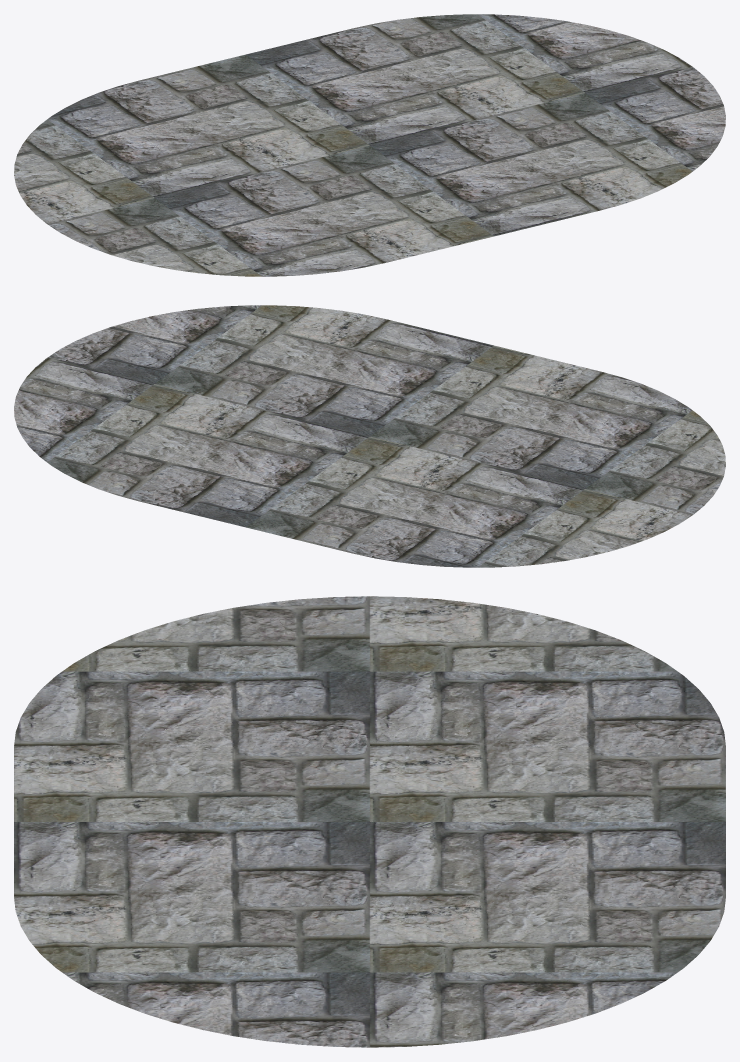
The model's file is capsule-shape-arena-floor.obj.
3 views of the same model, one above another, from view 1: azimuth 30°, elevation 25°; view 2: azimuth 150°, elevation 25°; view 3: azimuth 270°, elevation 25° (orthographic). The views are drawn at different scales.
Visible parts, largest first — view 1: arena-floor_Circle.001; view 2: arena-floor_Circle.001; view 3: arena-floor_Circle.001.
Boxes of the visible parts, x1,y1,x2,y2 form: arena-floor_Circle.001: (14, 14, 725, 276); arena-floor_Circle.001: (14, 305, 725, 567); arena-floor_Circle.001: (14, 596, 725, 1047).
Bounding box in the file's own units: 45 × 0 × 30.
